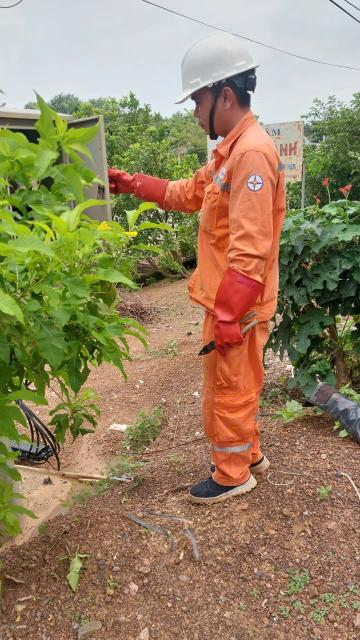gloves: (204, 260, 260, 348), (92, 157, 176, 205)
helmet: (160, 29, 272, 112)
shoes: (190, 468, 252, 498)
